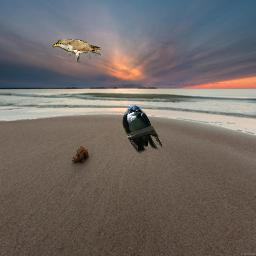Cuckoo: (52, 39, 101, 62)
Swallow: (121, 104, 164, 156)
